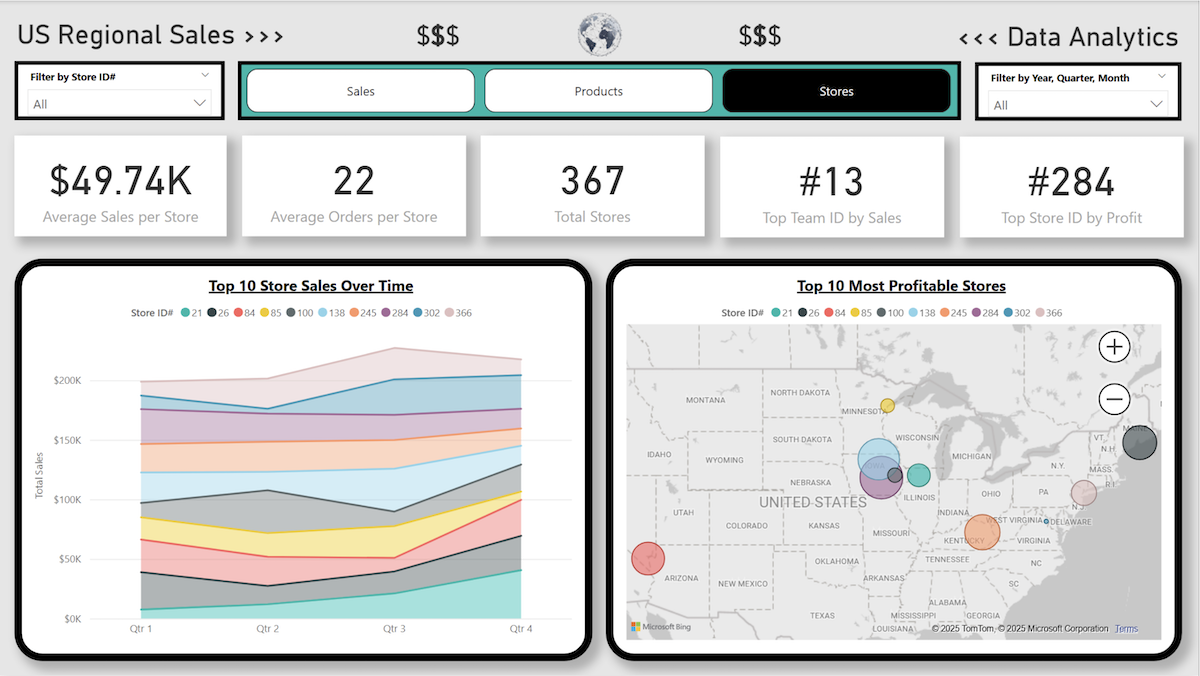

This screenshot's page, from the dashboard's own definition file:
{"tool":"powerbi","page":{"name":"Stores","canvas":[1280,720],"ordinal":2},"visuals":[{"type":"group","id":"g1","title":"Group 2","box":[16,143.4,1248,108.8],"z":0,"group":"g2"},{"type":"card","fields":{"Values":["dim_store.Sales per Store"]},"box":[16,143.4,226.5,107.7],"z":0,"group":"g1"},{"type":"group","id":"g2","title":"Group 4","box":[16,64,1248,640],"z":1000},{"type":"card","fields":{"Values":["dim_store.Orders per Store"]},"box":[258.7,143.4,239.2,107.7],"z":1000,"group":"g1"},{"type":"group","id":"g3","title":"Group 5","box":[14,0,1250,72.6],"z":2000},{"type":"textbox","box":[14,14,322.6,50.7],"z":2000,"group":"g3"},{"type":"shape","box":[254,64.4,771.9,62.9],"z":2000,"group":"g5"},{"type":"card","fields":{"Values":["dim_store.Top Store by Profit"]},"box":[1024.8,144.5,239.2,107.7],"z":2000,"group":"g1"},{"type":"stackedAreaChart","title":"Top 10 Store Sales Over Time","fields":{"Category":["dim_date.Date.Variation.Date Hierarchy.Year","dim_date.Date.Variation.Date Hierarchy.Quarter"],"Series":["dim_store.storeID"],"Y":["fact_sales.Total Sales"]},"box":[16.4,274.7,617.1,429.3],"z":2000,"group":"g2"},{"type":"pageNavigator","box":[263.2,72.3,753.4,47.2],"z":2500,"group":"g5"},{"type":"textbox","box":[1008,16,256,48],"z":3000,"group":"g3"},{"type":"card","fields":{"Values":["CountNonNull(dim_store.storeID)"]},"box":[514,143.4,239.2,107.7],"z":3000,"group":"g1"},{"type":"map","title":"Top 10 Most Profitable Stores","fields":{"Size":["fact_sales.Profit"],"Category":["dim_store.StoreZip"],"Series":["dim_store.storeID"]},"box":[647.4,274.7,615.1,429.3],"z":3000,"group":"g2"},{"type":"image","box":[600.2,0,81.8,72.6],"z":3500,"group":"g3"},{"type":"textbox","box":[254.6,15,770.8,50.7],"z":4000,"group":"g3"},{"type":"slicer","fields":{"Values":["dim_store.storeID"]},"box":[16.6,64,224.6,62.8],"z":4000,"group":"g2"},{"type":"card","fields":{"Values":["dim_salesteam.Top Salesteam by Revenue"]},"box":[769.4,144.5,239.2,107.7],"z":4000,"group":"g1"},{"type":"slicer","fields":{"Values":["regional_sales_db dim_date.Year","regional_sales_db dim_date.Quarter","dim_date.Date.Variation.Date Hierarchy.Month"]},"box":[1041.9,64.6,220.6,62.4],"z":5000,"group":"g2"},{"type":"group","id":"g4","title":"Group 1","box":[254,64.4,771.9,62.9],"z":6000,"group":"g2"},{"type":"group","id":"g5","title":"Group 3","box":[254,64.4,771.9,62.9],"z":7001,"group":"g4"}]}

Visuals, with their boxes in screenshot pixels (x1, y1, x2, y2), scaled from the page's 1280x720 canvas onto the 1200x676 screenshot:
"Group 2" group: box=[15, 135, 1185, 237]
card - dim_store.Sales per Store: box=[15, 135, 227, 236]
"Group 4" group: box=[15, 60, 1185, 661]
card - dim_store.Orders per Store: box=[243, 135, 467, 236]
"Group 5" group: box=[13, 0, 1185, 68]
textbox: box=[13, 13, 316, 61]
shape: box=[238, 60, 962, 120]
card - dim_store.Top Store by Profit: box=[961, 136, 1185, 237]
"Top 10 Store Sales Over Time" stackedAreaChart: box=[15, 258, 594, 661]
pageNavigator: box=[247, 68, 953, 112]
textbox: box=[945, 15, 1185, 60]
card - CountNonNull(dim_store.storeID): box=[482, 135, 706, 236]
"Top 10 Most Profitable Stores" map: box=[607, 258, 1184, 661]
image: box=[563, 0, 639, 68]
textbox: box=[239, 14, 961, 62]
slicer - dim_store.storeID: box=[16, 60, 226, 119]
card - dim_salesteam.Top Salesteam by Revenue: box=[721, 136, 946, 237]
slicer - regional_sales_db dim_date.Year x regional_sales_db dim_date.Quarter: box=[977, 61, 1184, 119]
"Group 1" group: box=[238, 60, 962, 120]
"Group 3" group: box=[238, 60, 962, 120]
